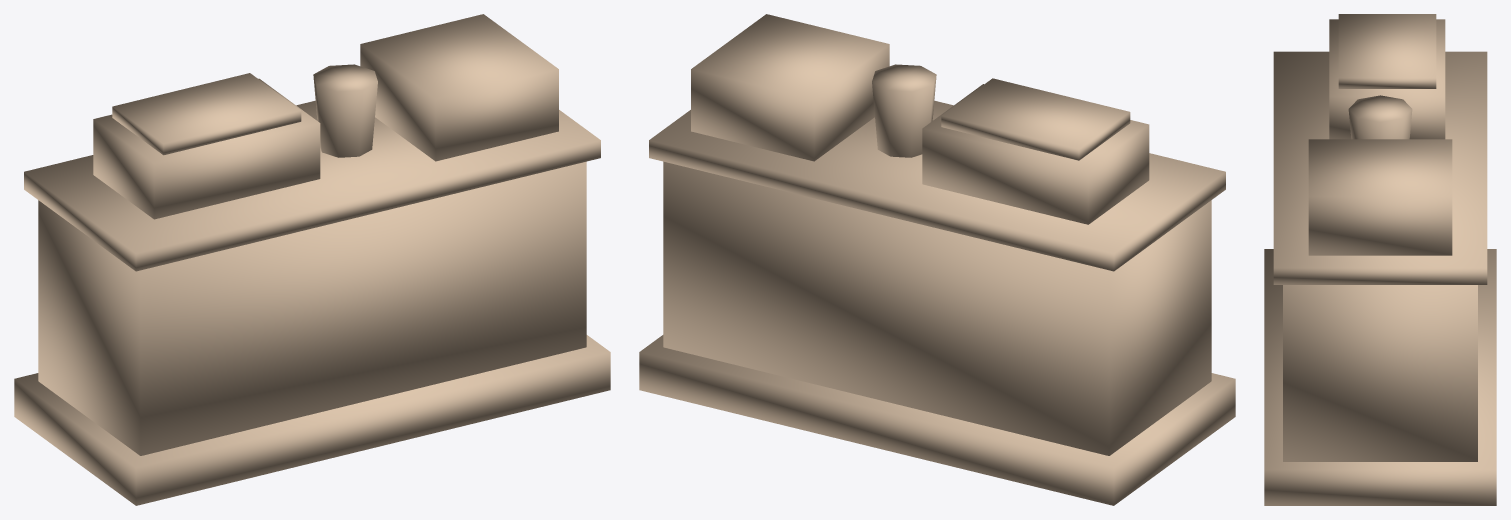
File: cafe-espresso-bar.glb
3 views of the same model, side by side, from view 1: azimuth 30°, elevation 25°; view 2: azimuth 150°, elevation 25°; view 3: azimuth 270°, elevation 25° (orthographic). The views are drawn at different scales.
Visible parts, largest first — view 1: cafe-espresso-bar; view 2: cafe-espresso-bar; view 3: cafe-espresso-bar.
Part boxes in pixels (box(x1,y1,x2,y2)): cafe-espresso-bar: box(14, 14, 610, 505); cafe-espresso-bar: box(639, 14, 1235, 505); cafe-espresso-bar: box(1264, 14, 1496, 505).
Size of the model in its own units: 1.8 by 1.15 by 0.8.
